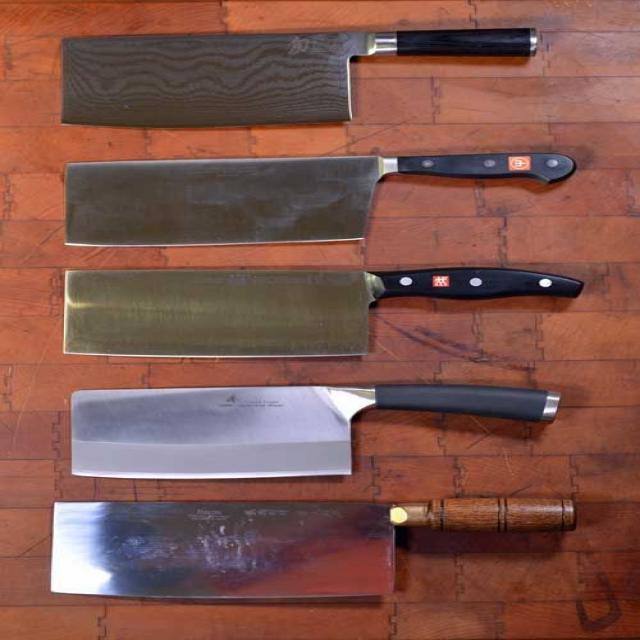cleaver: (51, 494, 575, 603), (70, 382, 564, 485), (75, 152, 578, 242), (61, 29, 531, 111), (67, 268, 564, 345)
